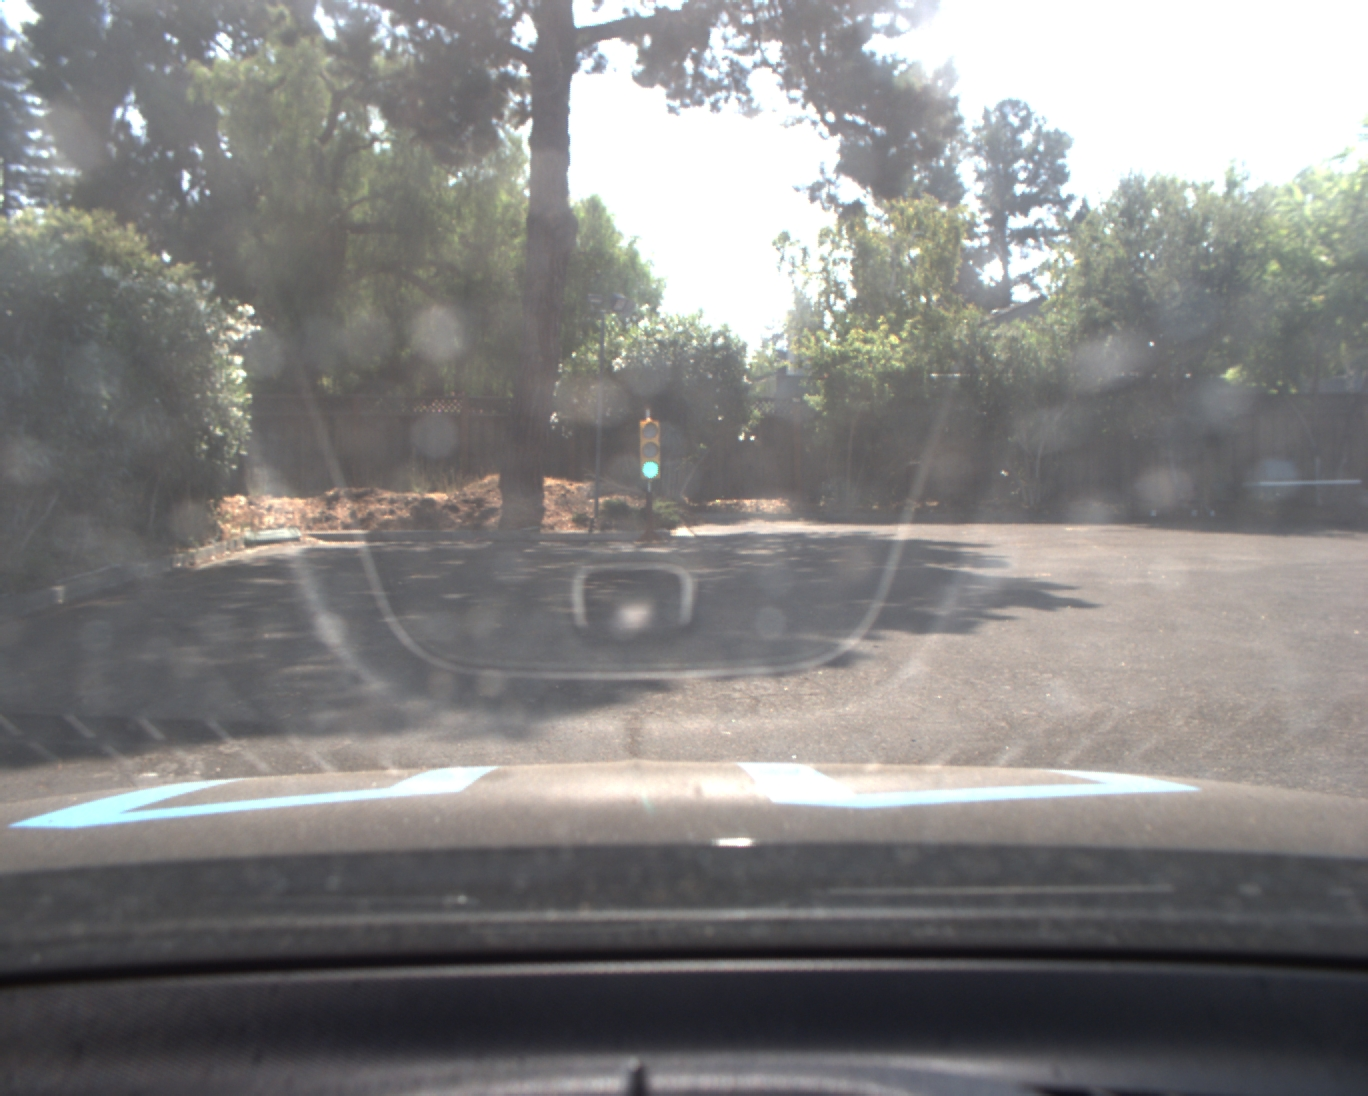green: (641, 418, 661, 485)
